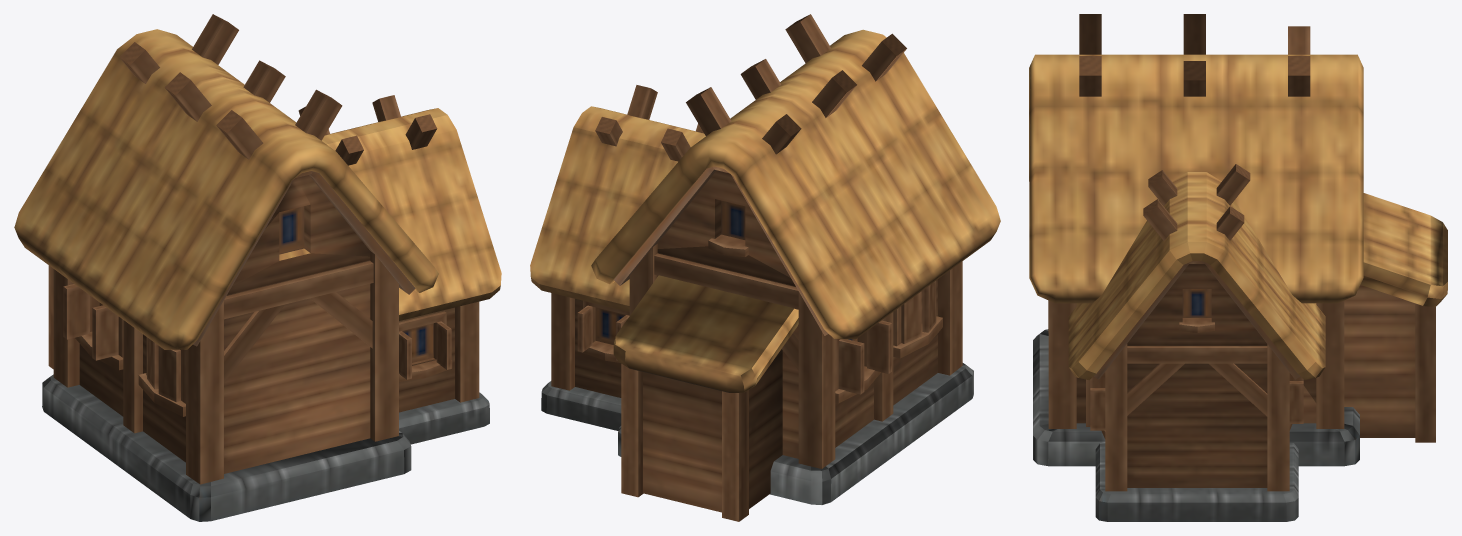
File: house_4_1.FBX
3 views of the same model, side by side, from view 1: azimuth 30°, elevation 25°; view 2: azimuth 150°, elevation 25°; view 3: azimuth 270°, elevation 25° (orthographic). The views are drawn at different scales.
Visible parts, largest first — view 1: polySurface1253; view 2: polySurface1253; view 3: polySurface1253.
Part boxes in pixels (x1,y1,x2,y2): polySurface1253: (14, 14, 501, 521); polySurface1253: (530, 14, 1000, 521); polySurface1253: (1029, 14, 1447, 521).
Size of the model in its own units: 78.49 by 78.37 by 78.36.
